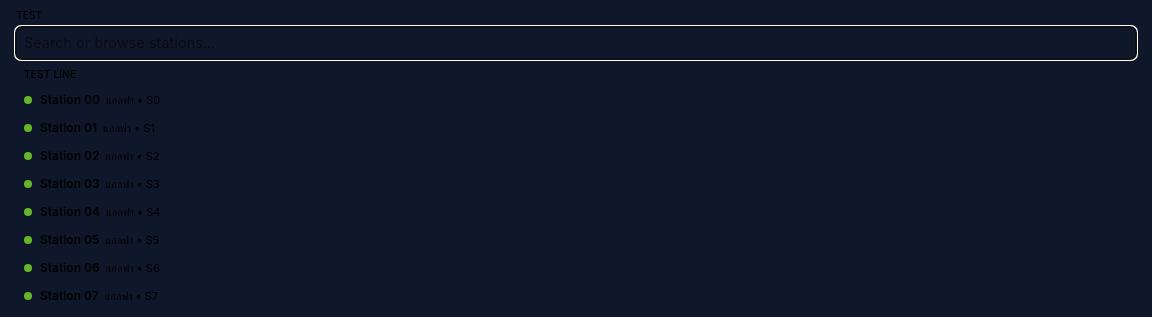
it: StationCombobox truncated-search disclosure (Low #6) › shows no truncation note when a search matches 8 or fewer
Matches only "Station 10"/"Station 11" — 2 results, under the cap.
In the dropdown: x=576, y=43 x1=16 y1=27 x2=1136 y2=59, type "station 1"
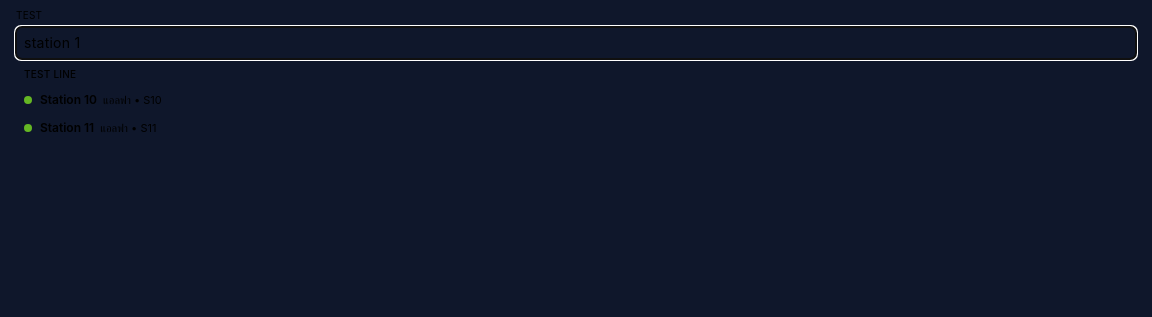
Expected: the number of options is 2, x1=16 y1=86 x2=1136 y2=114; x1=16 y1=114 x2=1136 y2=142
